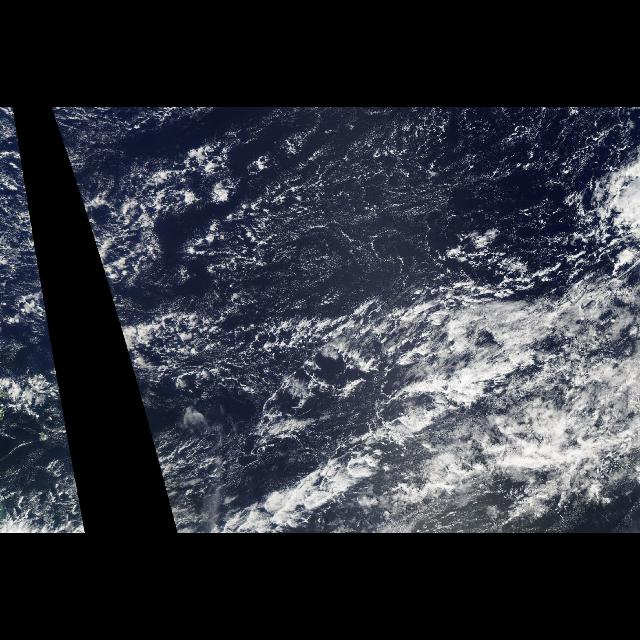Gravel: (52, 110, 638, 530), (1, 116, 85, 530)
Sugar: (50, 108, 634, 312), (4, 107, 34, 237)
